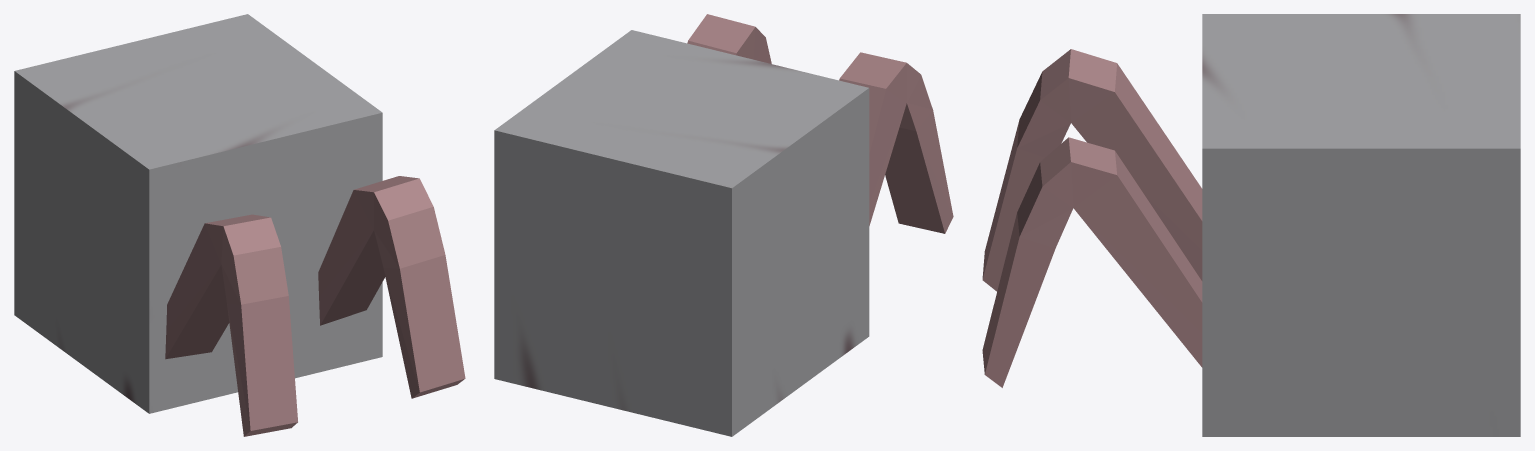
The model's file is Monster.gltf.
The picture shows the model from 3 angles, left to right: view 1: azimuth 30°, elevation 25°; view 2: azimuth 150°, elevation 25°; view 3: azimuth 270°, elevation 25°; orthographic projection. The views are drawn at different scales.
Visible parts, largest first — view 1: Cube; view 2: Cube; view 3: Cube.
Part boxes in pixels (x1,y1,x2,y2): Cube: (14, 14, 465, 436); Cube: (494, 14, 953, 436); Cube: (982, 14, 1520, 436).
Bounding box in the file's own units: 2 × 2 × 3.38.
1 material, 1 textured.
